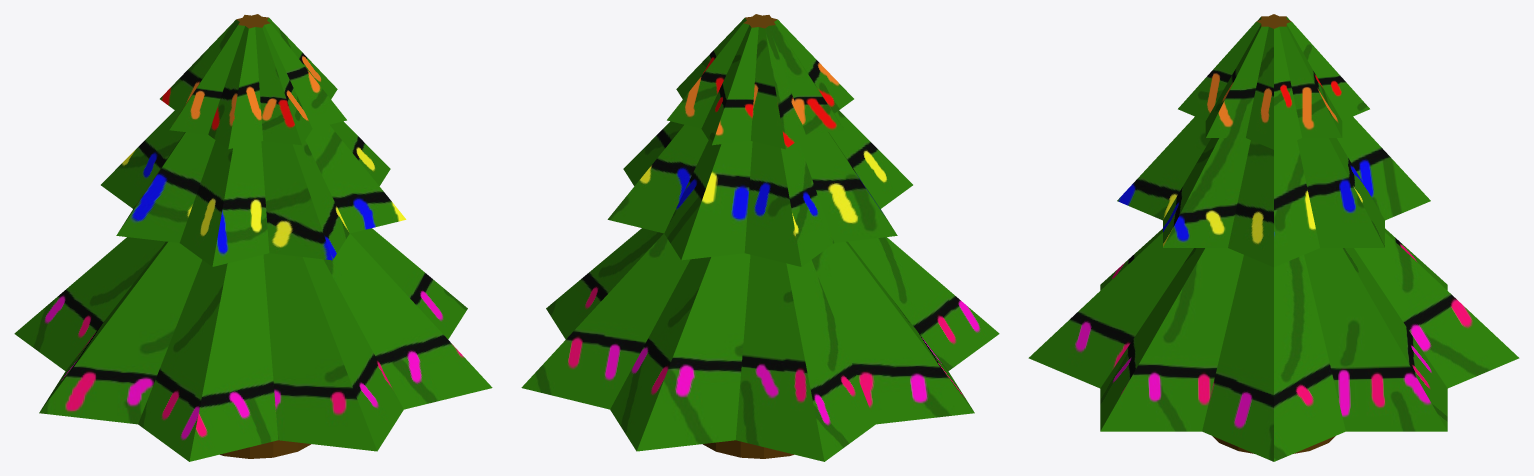
File: Tree.fbx
3 renders of one model, left to right at view 1: azimuth 30°, elevation 25°; view 2: azimuth 150°, elevation 25°; view 3: azimuth 270°, elevation 25°, orthographic.
Parts seen in each view (by area): view 1: Tree; view 2: Tree; view 3: Tree.
Boxes of the visible parts, bbox=[...] form: Tree: bbox=[14, 14, 492, 461]; Tree: bbox=[521, 14, 999, 461]; Tree: bbox=[1028, 14, 1519, 461].
Bounding box in the file's own units: 283 × 258 × 283.
